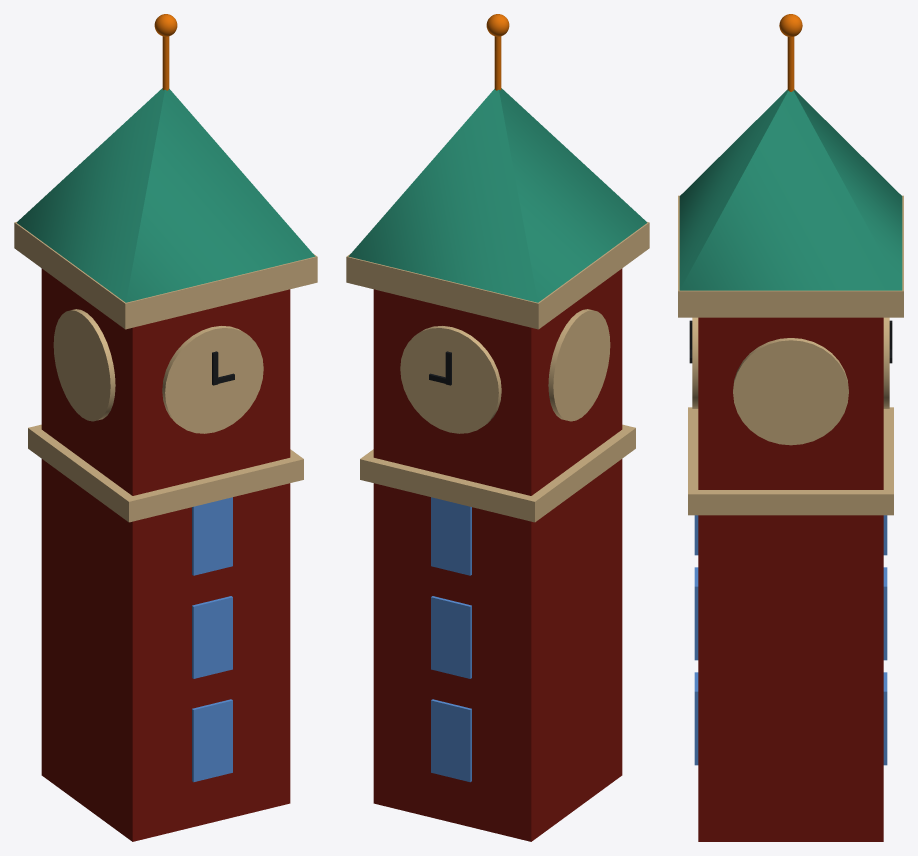
The model's file is clocktower.obj.
The picture shows the model from 3 angles, left to right: view 1: azimuth 30°, elevation 25°; view 2: azimuth 150°, elevation 25°; view 3: azimuth 270°, elevation 25°; orthographic projection.
Visible parts, largest first — view 1: tower_shaft, tower_roof, cornice, clock_face_z1, belt_course, clock_face_x-1, tower_window_01, tower_window_11, tower_window_21; view 2: tower_shaft, tower_roof, cornice, clock_face_z-1, belt_course, clock_face_x-1, tower_window_0-1, tower_window_1-1, tower_window_2-1; view 3: tower_shaft, tower_roof, clock_face_x1, belt_course, cornice, clock_face_z1, clock_face_z-1, tower_window_01, tower_window_0-1, tower_window_11, tower_window_1-1, finial_ball (+1 smaller).
Boxes of the visible parts, left/top/right/bottom form: tower_shaft: left=41, top=268, right=290, bottom=841; tower_roof: left=16, top=88, right=315, bottom=302; cornice: left=14, top=222, right=317, bottom=329; clock_face_z1: left=162, top=326, right=263, bottom=433; belt_course: left=28, top=424, right=303, bottom=522; clock_face_x-1: left=53, top=309, right=115, bottom=421; tower_window_01: left=192, top=699, right=232, bottom=782; tower_window_11: left=192, top=596, right=232, bottom=678; tower_window_21: left=192, top=497, right=232, bottom=575; tower_shaft: left=373, top=268, right=622, bottom=841; tower_roof: left=348, top=88, right=647, bottom=302; cornice: left=346, top=222, right=649, bottom=329; clock_face_z-1: left=400, top=326, right=501, bottom=433; belt_course: left=360, top=424, right=635, bottom=522; clock_face_x-1: left=548, top=309, right=610, bottom=421; tower_window_0-1: left=431, top=699, right=471, bottom=782; tower_window_1-1: left=431, top=596, right=471, bottom=678; tower_window_2-1: left=431, top=497, right=471, bottom=575; tower_shaft: left=698, top=317, right=883, bottom=841; tower_roof: left=679, top=89, right=902, bottom=290; clock_face_x1: left=733, top=338, right=848, bottom=445; belt_course: left=688, top=407, right=893, bottom=515; cornice: left=678, top=195, right=903, bottom=317; clock_face_z1: left=692, top=317, right=698, bottom=408; clock_face_z-1: left=883, top=317, right=889, bottom=408; tower_window_01: left=694, top=672, right=698, bottom=765; tower_window_0-1: left=883, top=672, right=887, bottom=765; tower_window_11: left=694, top=567, right=698, bottom=660; tower_window_1-1: left=883, top=567, right=887, bottom=660; finial_ball: left=779, top=14, right=802, bottom=36.
Bounding box in the file's own units: 3.9 × 15 × 3.9.
